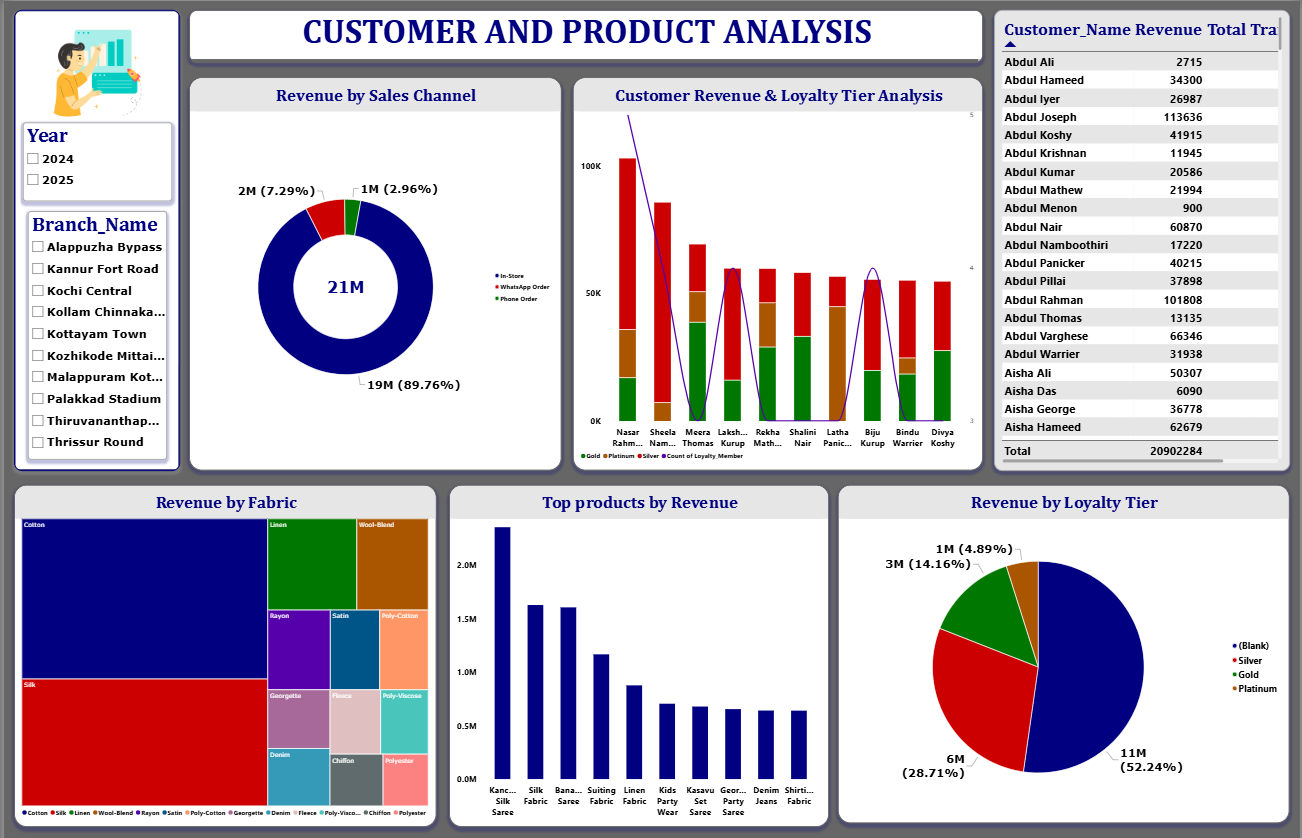

The page's visual inventory and layout, read from the dashboard file:
{"tool":"powerbi","page":{"name":"customer & product analysis","canvas":[3050,2000],"ordinal":1},"visuals":[{"type":"textbox","title":"CUSTOMER AND PRODUCT ANALYSIS","box":[434.3,20,1868.6,125.7],"z":0},{"type":"treemap","fields":{"Group":["textile products.Fabric"],"Values":["textile sales.Revenue"]},"box":[22.9,1137.1,994.3,805.7],"z":0},{"type":"donutChart","fields":{"Category":["textile sales.Sales_Channel"],"Y":["textile sales.Revenue"]},"box":[434.3,180,877.1,925.7],"z":1000},{"type":"columnChart","fields":{"Category":["textile products.Product_Name"],"Y":["textile sales.Revenue"]},"box":[1045.7,1137.1,894.3,805.7],"z":2000},{"type":"lineStackedColumnComboChart","fields":{"Category":["textile customers.Customer_Name"],"Series":["textile customers.Loyalty_Tier"],"Y":["textile sales.Revenue"],"Y2":["CountNonNull(textile customers.Loyalty_Member)"]},"box":[1337.1,180,965.7,925.7],"z":3000},{"type":"pieChart","fields":{"Category":["textile customers.Loyalty_Tier"],"Y":["textile sales.Revenue"]},"box":[1962.9,1137.1,1062.9,797.1],"z":4000},{"type":"tableEx","fields":{"Values":["textile customers.Customer_Name","textile sales.Revenue","textile sales.Total Transaction"]},"box":[2328.6,20,697.1,1085.7],"z":5000},{"type":"group","id":"g1","title":"Group 3","box":[22.9,20,391.4,1085.7],"z":6001,"group":"g2"},{"type":"group","id":"g2","title":"Group 1","box":[22.9,20,391.4,1085.7],"z":6002},{"type":"shape","box":[22.9,20,391.4,1085.7],"z":13001,"group":"g3"},{"type":"group","id":"g3","title":"Group 2","box":[22.9,20,391.4,1085.7],"z":13002,"group":"g1"},{"type":"slicer","fields":{"Values":["textile branches.Branch_Name"]},"box":[55.3,493,328.2,585.3],"z":13251,"group":"g3"},{"type":"slicer","fields":{"Values":["Date_Table.Year"]},"box":[43.3,283.8,352.3,186.6],"z":13501,"group":"g3"},{"type":"image","box":[54.4,51.1,328.2,231.8],"z":13502,"group":"g1"}]}

Visuals, with their boxes in screenshot pixels (x1, y1, x2, y2), scaled from the page's 3050x2000 canvas onto the 1302x838 screenshot:
"CUSTOMER AND PRODUCT ANALYSIS" textbox: x1=185, y1=8, x2=983, y2=61
treemap - textile products.Fabric x textile sales.Revenue: x1=10, y1=476, x2=434, y2=814
donutChart - textile sales.Sales_Channel x textile sales.Revenue: x1=185, y1=75, x2=560, y2=463
columnChart - textile products.Product_Name x textile sales.Revenue: x1=446, y1=476, x2=828, y2=814
lineStackedColumnComboChart - textile customers.Customer_Name x textile customers.Loyalty_Tier: x1=571, y1=75, x2=983, y2=463
pieChart - textile customers.Loyalty_Tier x textile sales.Revenue: x1=838, y1=476, x2=1292, y2=810
tableEx - textile customers.Customer_Name x textile sales.Revenue: x1=994, y1=8, x2=1292, y2=463
"Group 3" group: x1=10, y1=8, x2=177, y2=463
"Group 1" group: x1=10, y1=8, x2=177, y2=463
shape: x1=10, y1=8, x2=177, y2=463
"Group 2" group: x1=10, y1=8, x2=177, y2=463
slicer - textile branches.Branch_Name: x1=24, y1=207, x2=164, y2=452
slicer - Date_Table.Year: x1=18, y1=119, x2=169, y2=197
image: x1=23, y1=21, x2=163, y2=119
